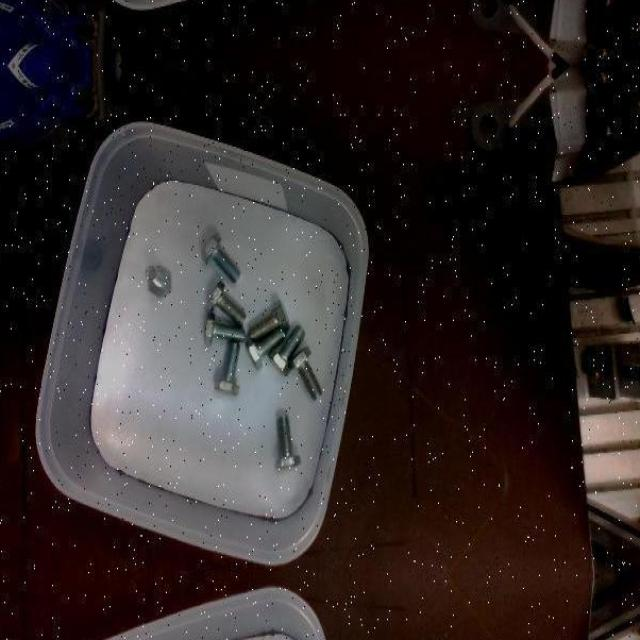screw: (201, 232, 241, 283), (207, 280, 248, 328), (287, 346, 322, 399), (268, 326, 305, 376), (249, 299, 290, 341), (246, 327, 286, 370), (214, 340, 240, 396), (204, 312, 246, 346), (276, 415, 302, 468), (145, 264, 171, 298)
